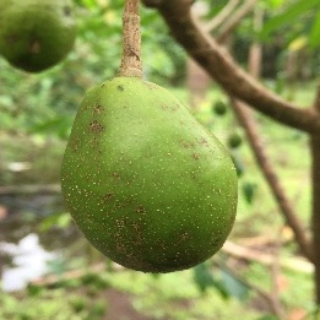coc: (62, 75, 240, 277)
